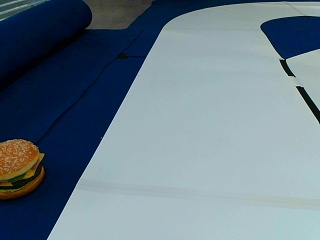burger: (0, 136, 45, 199)
